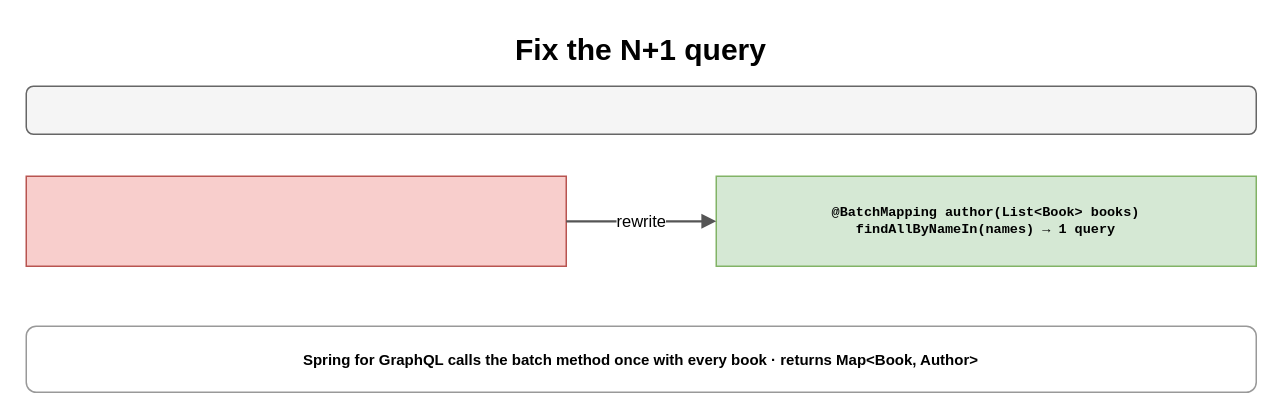
Image size: 1283x419. Some labels were removed from this diagram. Each missing label, with the centre of its shape:
@SchemaMapping author(Book book) 100 books → 1 + 100 queries: the point at 295,220
Batch the field so one query loads every author: the point at 640,109
